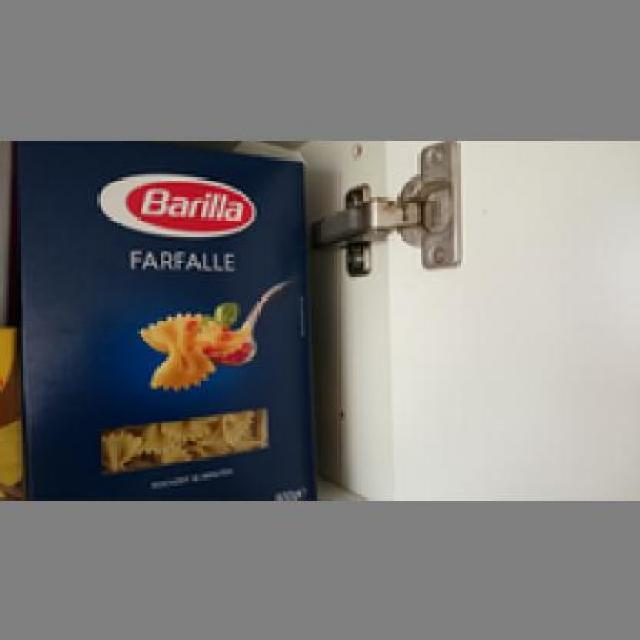Pasta: (5, 140, 312, 494)
